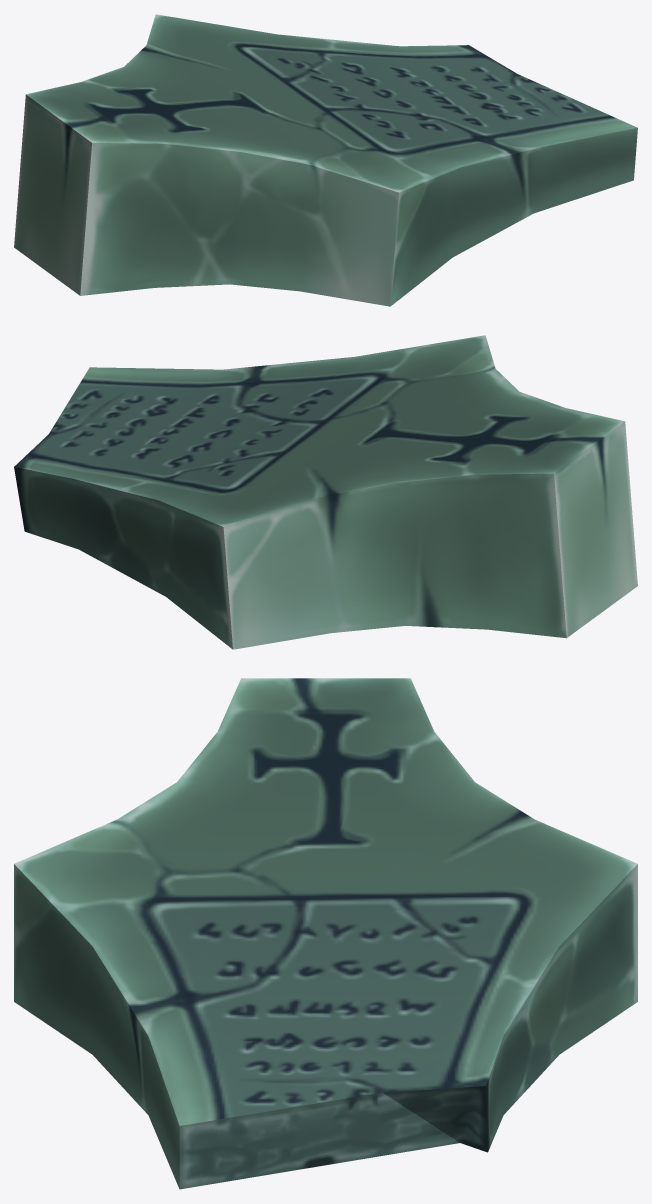
File: tombstone_big_broken_02.fbx
The picture shows the model from 3 angles, top to bottom: view 1: azimuth 30°, elevation 25°; view 2: azimuth 150°, elevation 25°; view 3: azimuth 270°, elevation 25°; orthographic projection. The views are drawn at different scales.
Parts seen in each view (by area): view 1: tombstone_big_broken_02; view 2: tombstone_big_broken_02; view 3: tombstone_big_broken_02.
Part boxes in pixels (box(x1,y1,x2,y2)): tombstone_big_broken_02: box(14, 14, 637, 306); tombstone_big_broken_02: box(14, 335, 637, 649); tombstone_big_broken_02: box(14, 678, 637, 1189).
Bounding box in the file's own units: 12.06 × 3.28 × 9.53.
